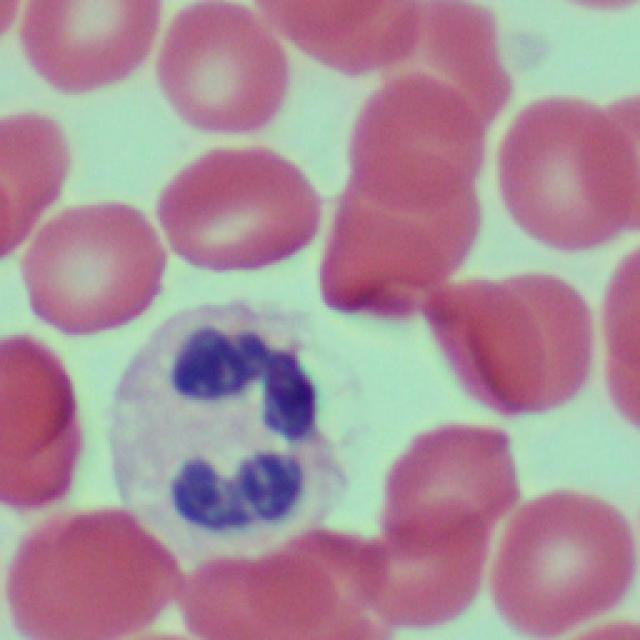RBC: (320, 67, 481, 326), (365, 418, 509, 628), (427, 267, 596, 419), (154, 138, 318, 285), (2, 507, 172, 640), (501, 87, 640, 249), (488, 482, 634, 634), (19, 199, 158, 342), (155, 0, 285, 140), (371, 2, 508, 128), (180, 554, 378, 636), (0, 332, 77, 522), (10, 0, 161, 92), (0, 110, 60, 275), (597, 229, 640, 440)
WBC: (146, 336, 350, 537)
